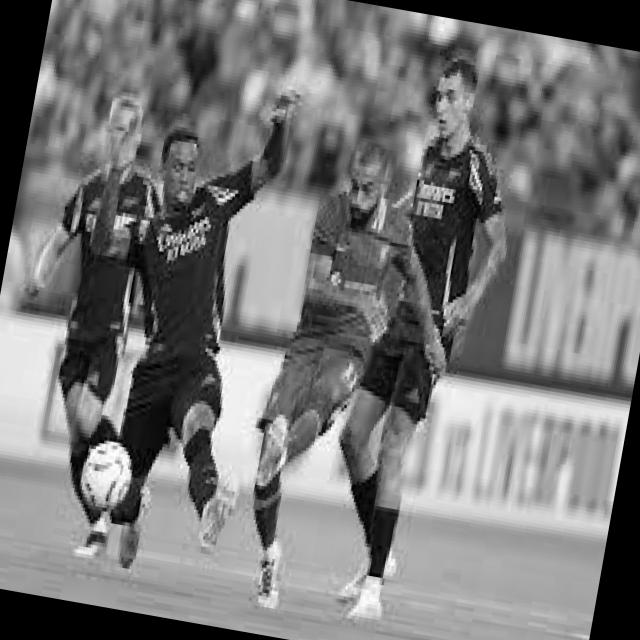football: (75, 431, 139, 519)
